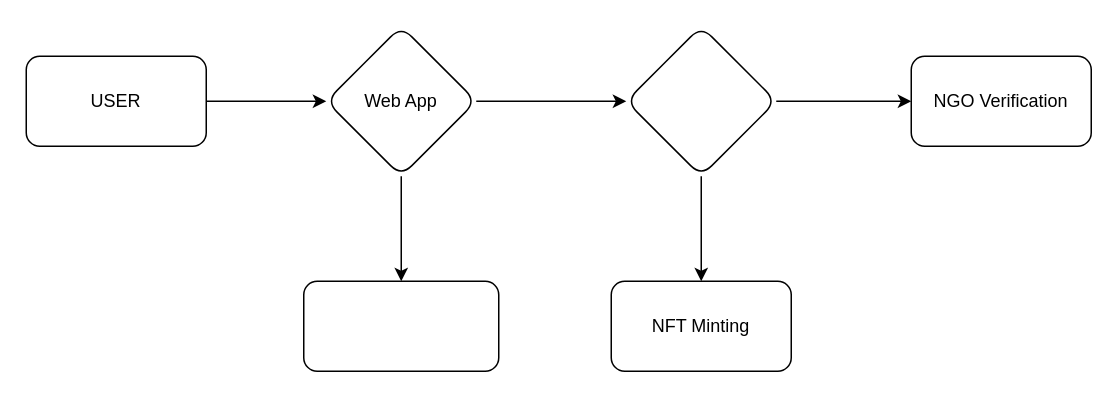
Some shapes in this 1118 by 398 pixel diagram are drawn without their labels. The centre of each missing label's shape, as x and y in pixels:
Blockchain Platform (Polygon): [700,100]
Environmental Impact Tracking: [400,325]
